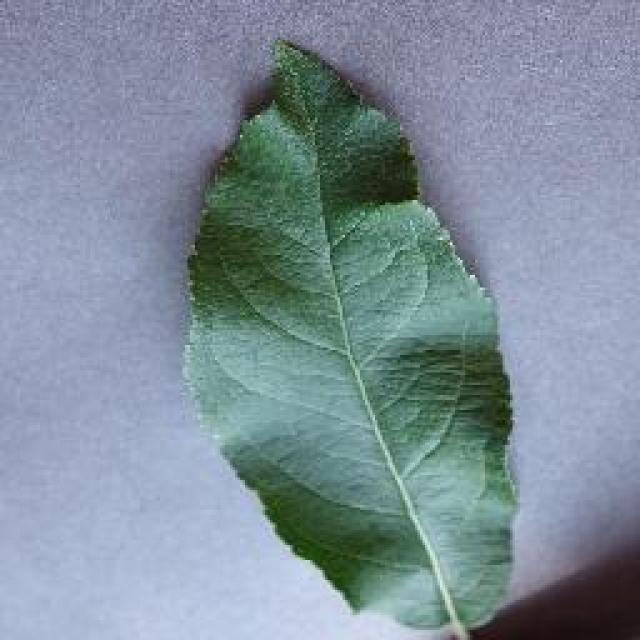apple healthy: (178, 35, 522, 637)
